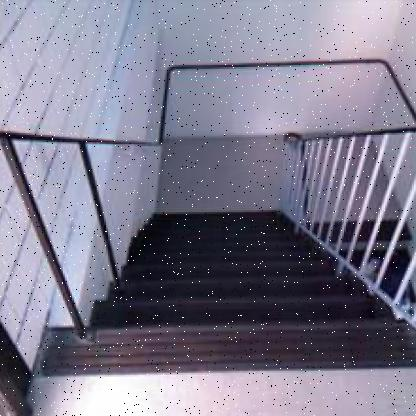stair_down: (57, 271, 400, 382)
